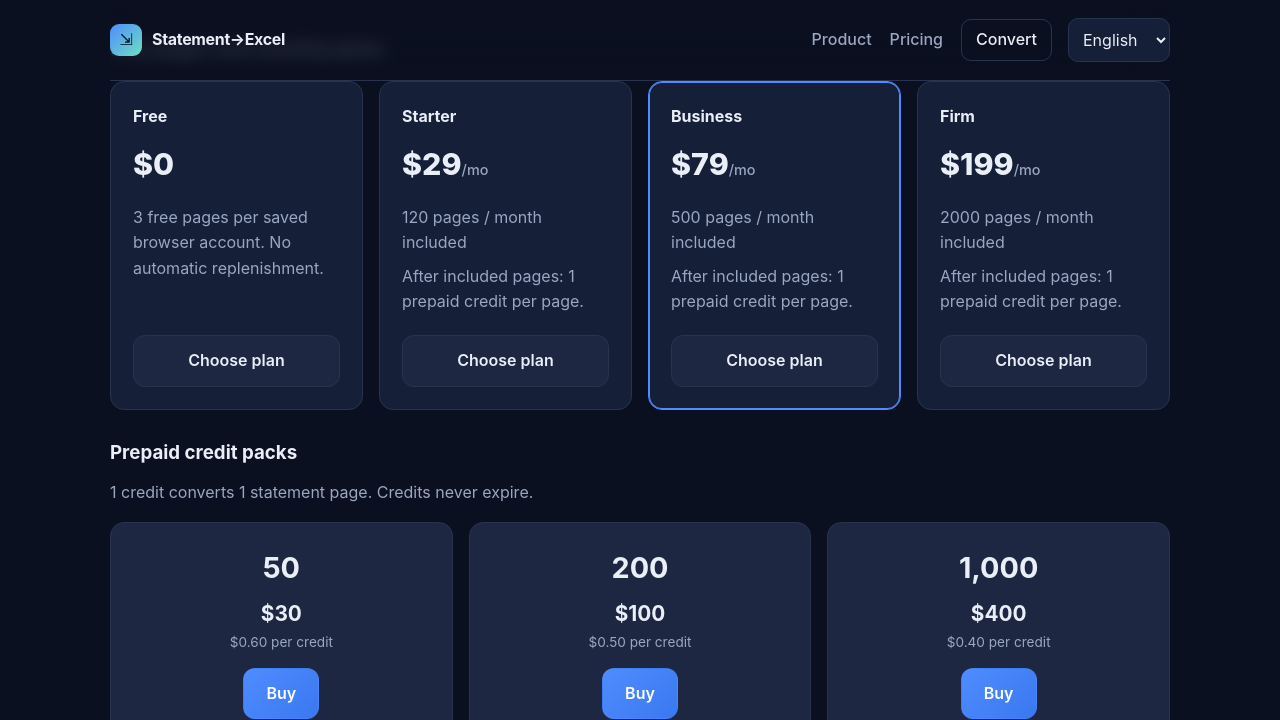
Test: server-authoritative checkout › shows only the localized checkout error in en
This screenshot has width=1280, height=720.
(page scrolled)
Click the button "Choose plan" below "120" at (506, 361), box 402,335 -> 609,386
(page scrolled)
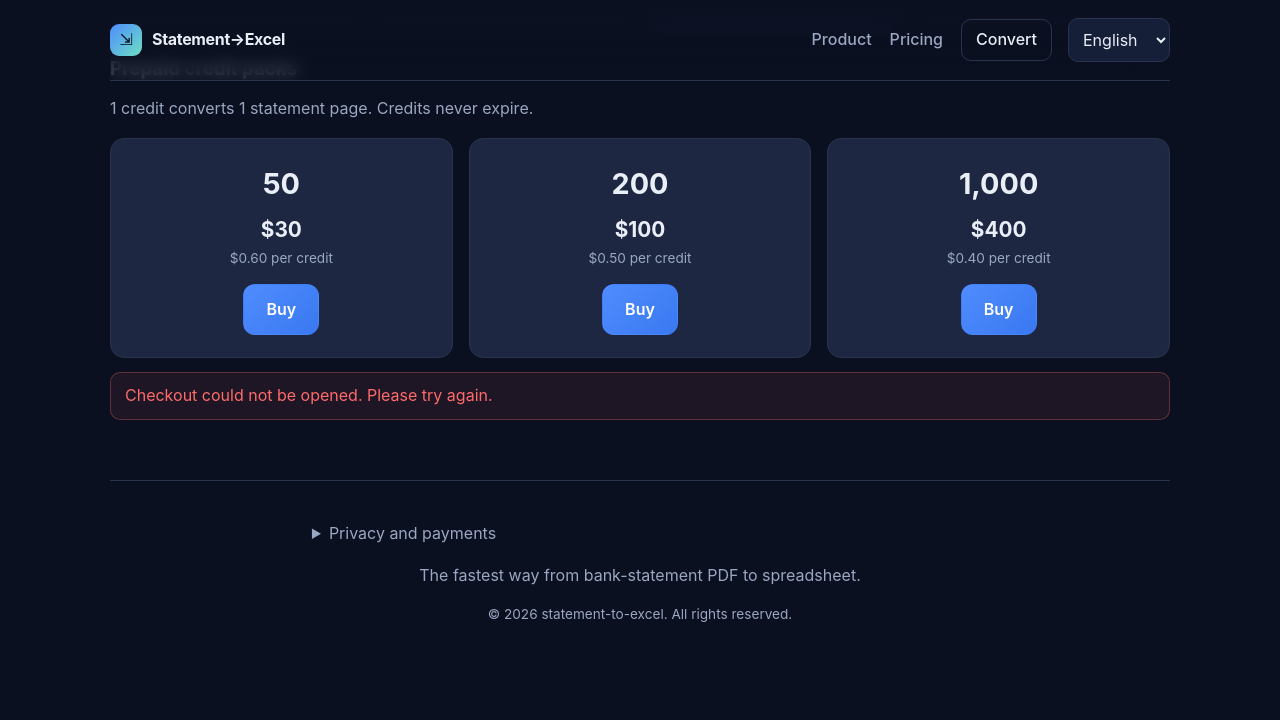
Check: the message does not show "STRIPE_OMITTED", box 110,372 -> 1170,420
Check: the message reads "Checkout could not be opened. Please try again.", box 125,386 -> 493,406
